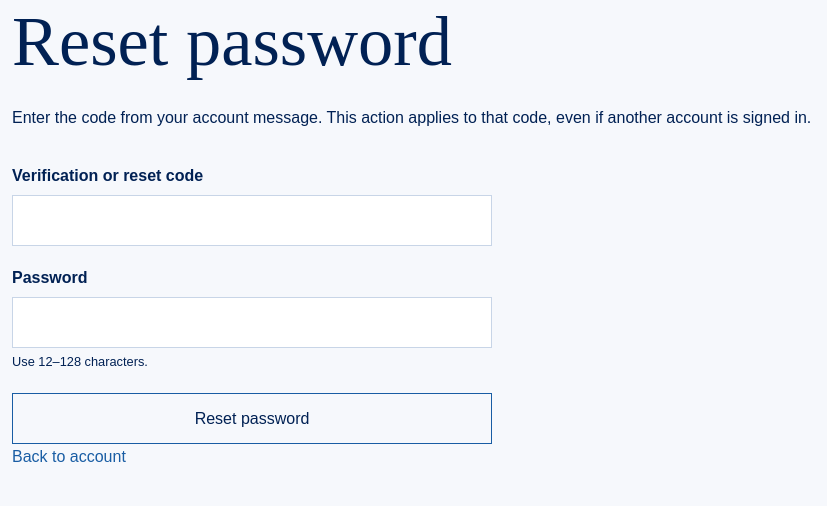
Test case: fixed account challenge pages › keeps input after an ambiguous command without automatic replay or server diagnostics
Type "synthetic-manually-entered-code-123456789" into the field labelled "Verification or reset code" at point(252, 220), box [12,195,492,246]
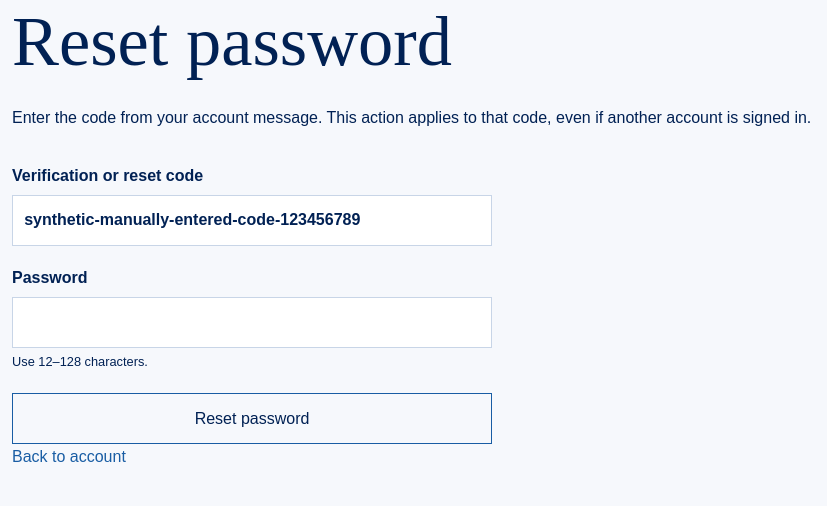
Type "Synthetic-new-password-123" into the password field labelled "Password" at point(252, 322), box [12,297,492,348]
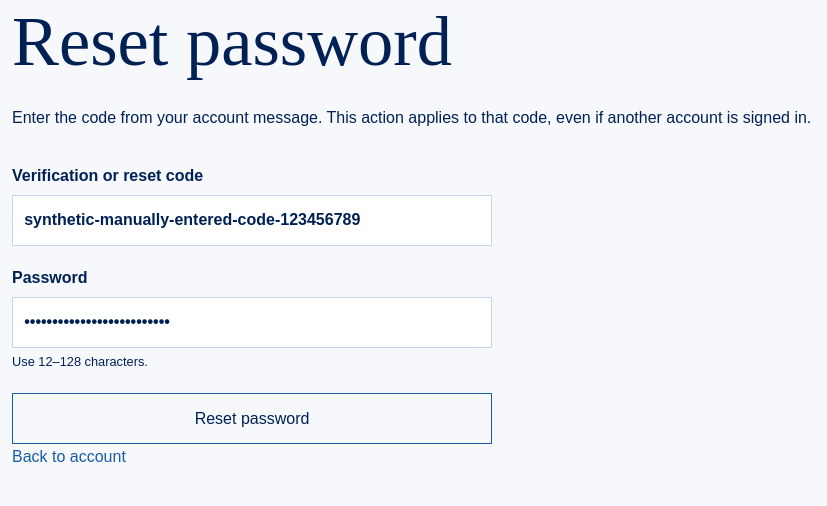
Submit the form, box [12,163,492,444]
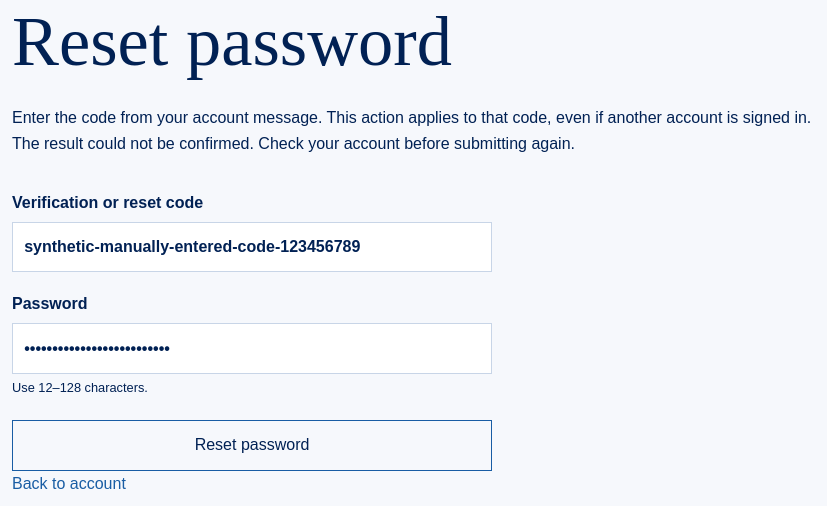
Expected: the message reads "The result could not be confirmed. Check your account before submitting again.", [12,135,575,152]
